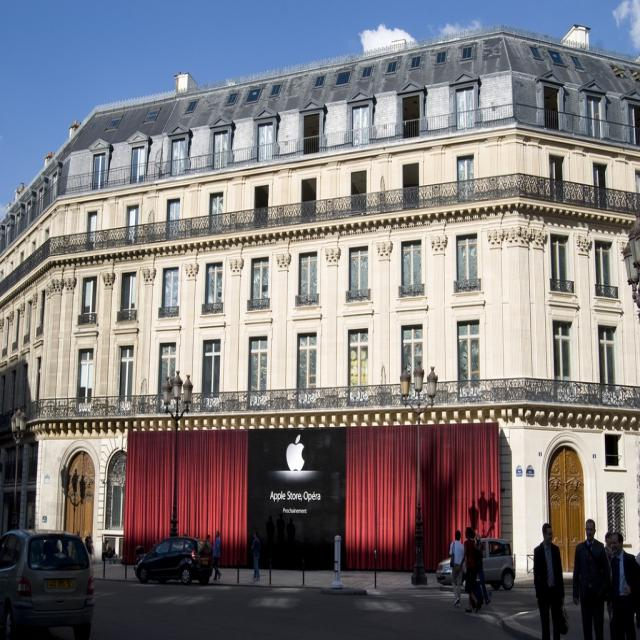apple: (282, 434, 313, 480)
